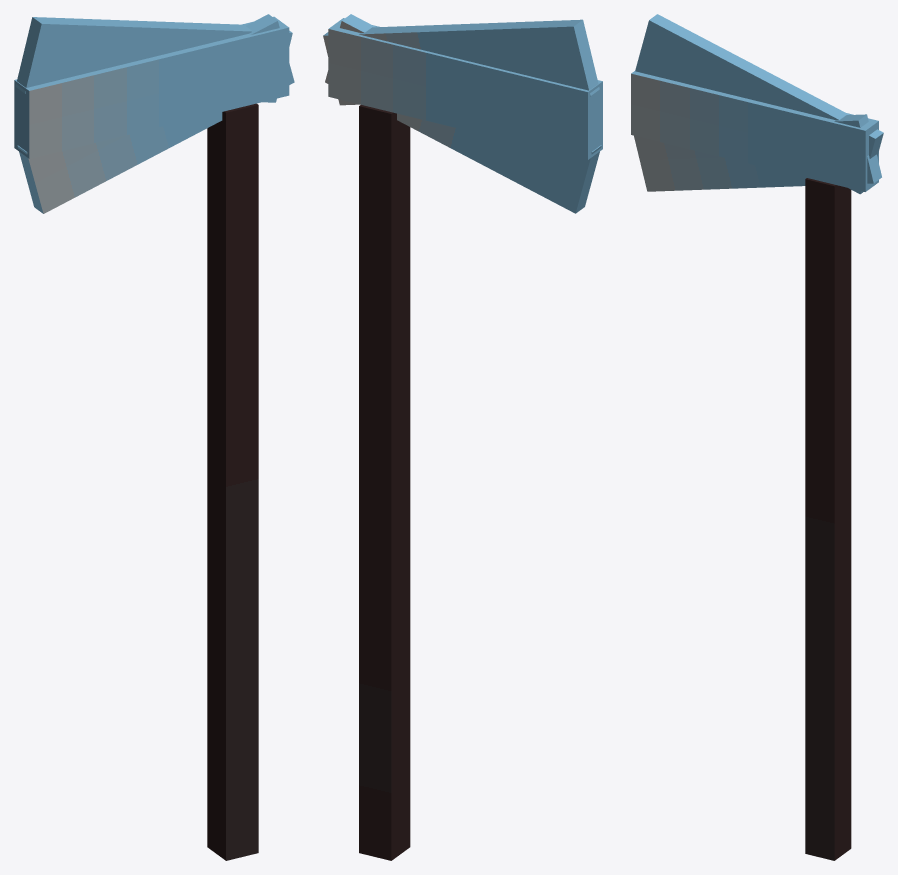
The model's file is Axe.gltf.
3 renders of one model, left to right at view 1: azimuth 30°, elevation 25°; view 2: azimuth 150°, elevation 25°; view 3: azimuth 330°, elevation 25°, orthographic. The views are drawn at different scales.
Parts seen in each view (by area): view 1: madira, cube (×3); view 2: madira, cube (×3); view 3: madira, cube (×3).
Part boxes in pixels (left/top/right/bottom): madira: left=207, top=103, right=258, bottom=860; cube (×3): left=14, top=14, right=294, bottom=213; madira: left=359, top=105, right=410, bottom=860; cube (×3): left=323, top=14, right=602, bottom=213; madira: left=805, top=178, right=851, bottom=860; cube (×3): left=631, top=14, right=883, bottom=194.
Size of the model in its own units: 0.5153 by 1.61 by 0.0625.
2 materials, 2 textured.
